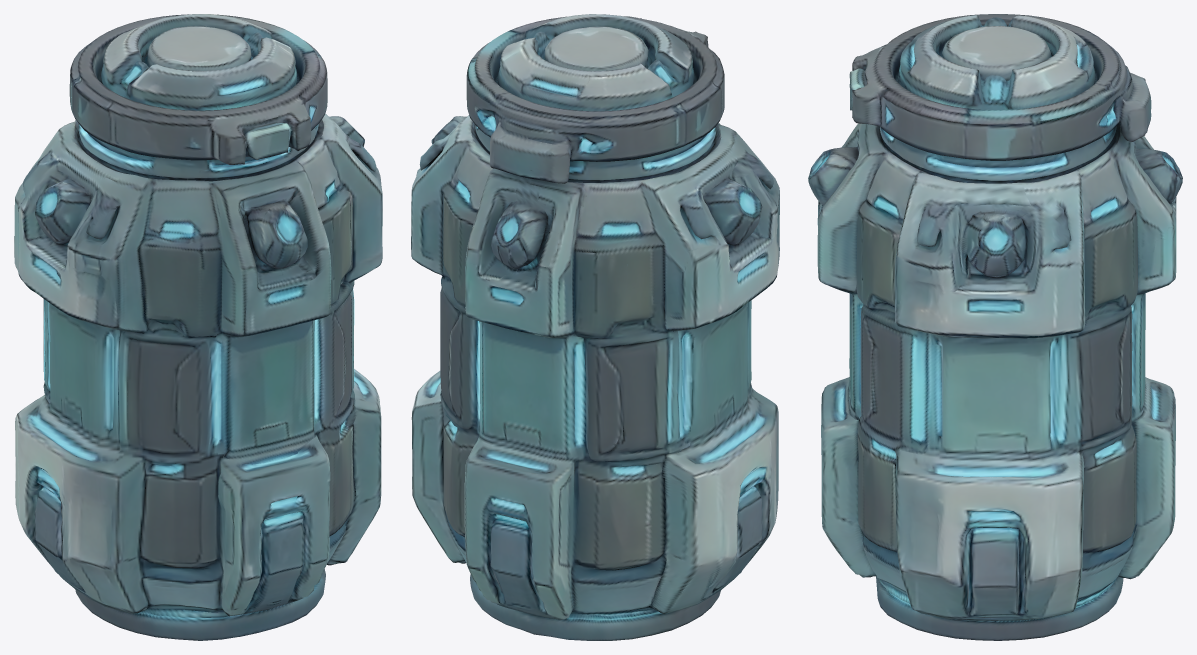
File: lod_granade_1.fbx
3 renders of one model, left to right at view 1: azimuth 30°, elevation 25°; view 2: azimuth 150°, elevation 25°; view 3: azimuth 270°, elevation 25°, orthographic.
Visible parts, largest first — view 1: model_LOD0; view 2: model_LOD0; view 3: model_LOD0.
Boxes of the visible parts, x1,y1,x2,y2 form: model_LOD0: (14, 14, 382, 640); model_LOD0: (411, 14, 779, 640); model_LOD0: (808, 14, 1182, 640).
Size of what is drawn, in the model's own units: 116 by 189 by 117.
